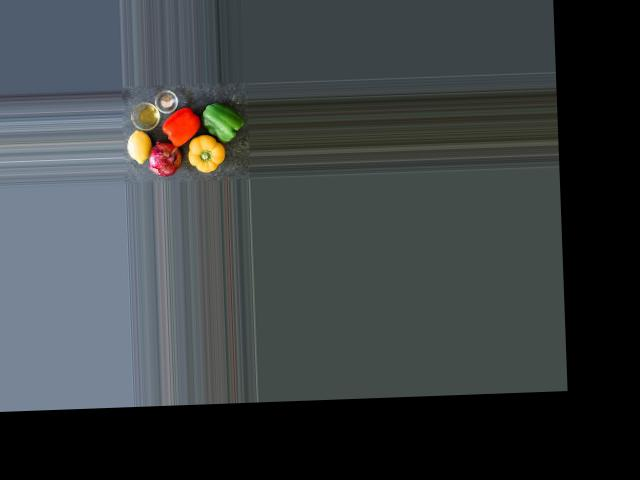bell_pepper: (161, 105, 200, 148)
